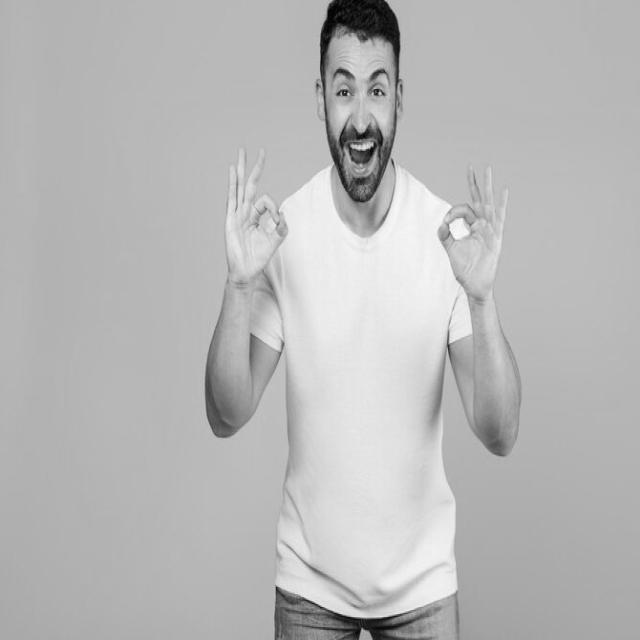perfect: (435, 156, 513, 311), (220, 135, 291, 300)
